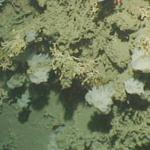alive: (2, 1, 149, 149)
